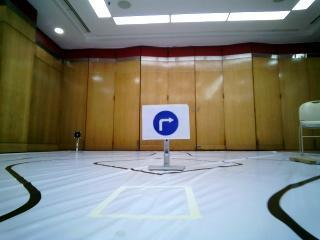right: (142, 106, 192, 144)
